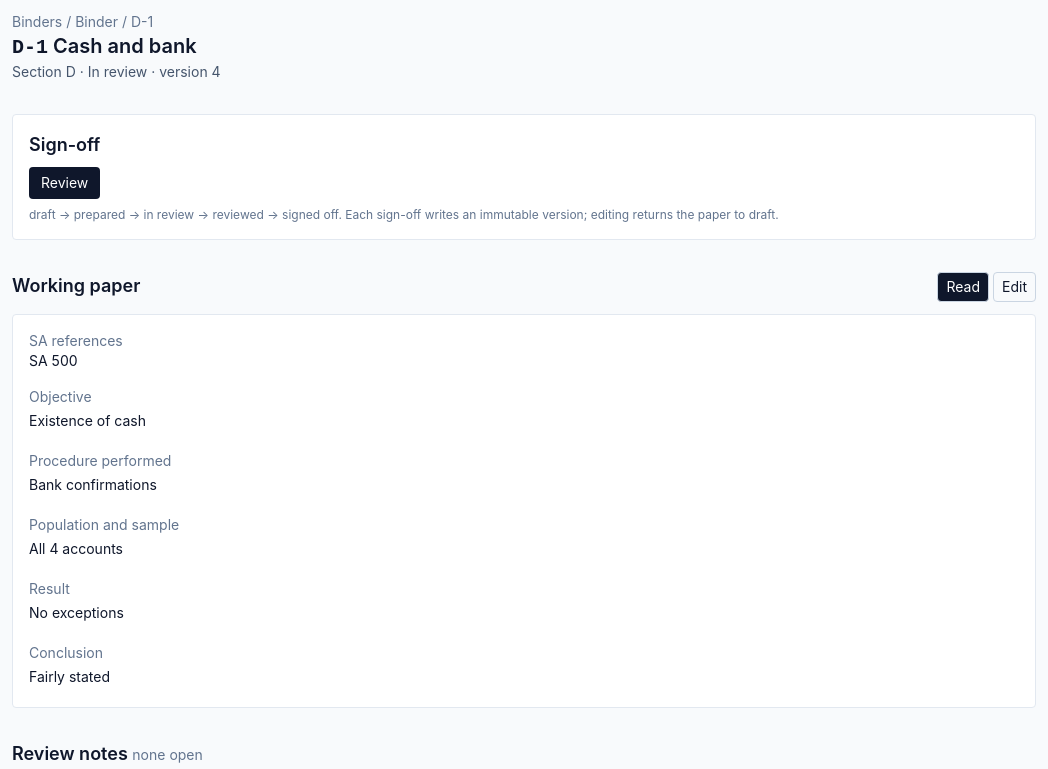
Scenario: a successful action clears an earlier error
The width and height of the screenshot is (1048, 769).
Step 1. Click the button "Review" → (65, 183), box [29,167,100,199]
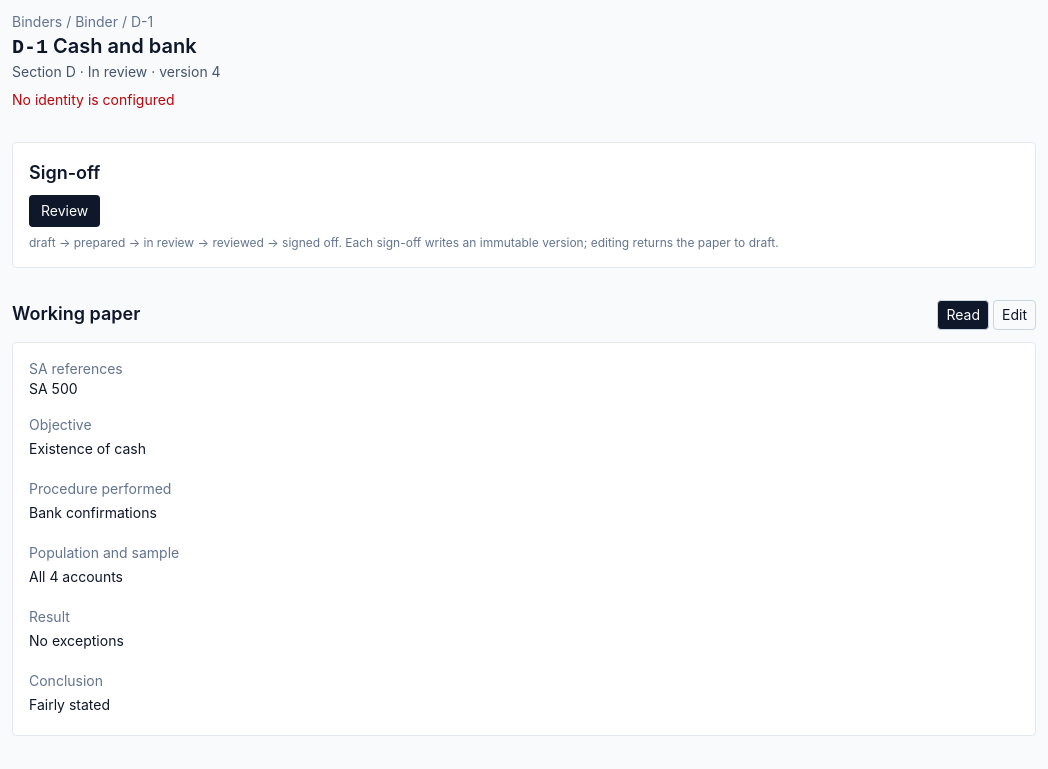
expect the message "No identity is configured" is shown: met, box [12,91,174,108]
Step 2. Click the button "Review" → (65, 211), box [29,195,100,227]
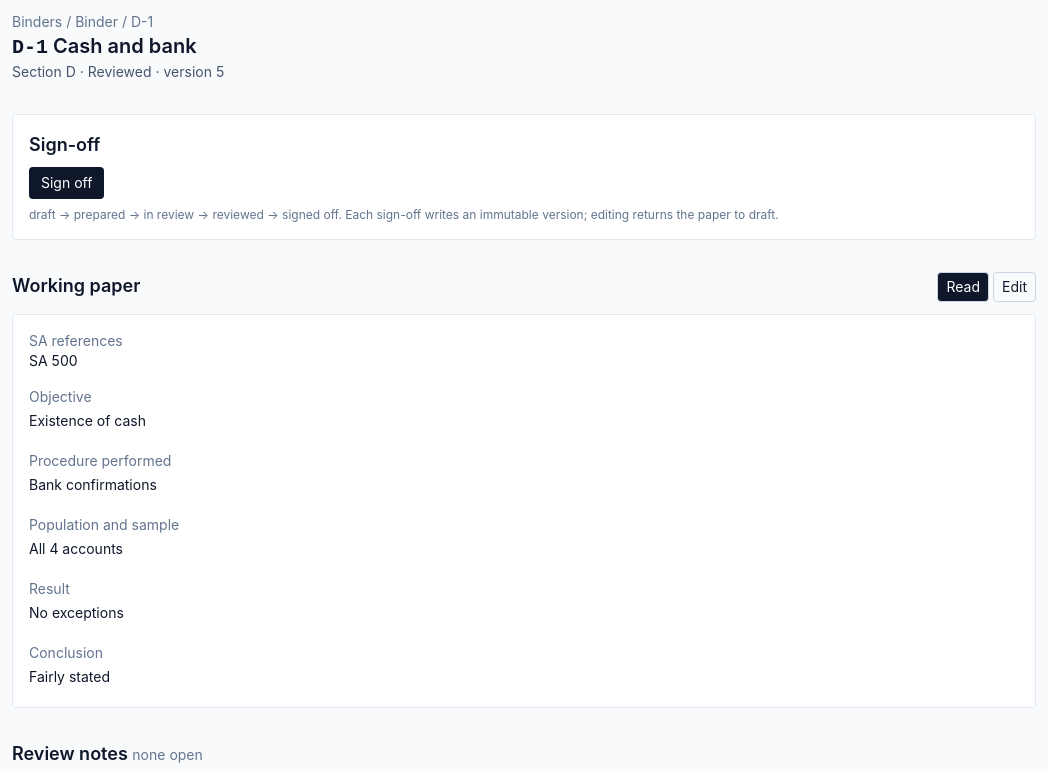
expect the text with test id "status" reads "Reviewed": met, box [88,63,152,80]
expect the message "No identity is configured" is gone: met
